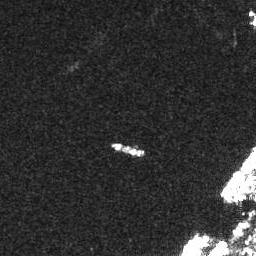ship: (221, 169, 242, 199), (111, 141, 144, 160)
